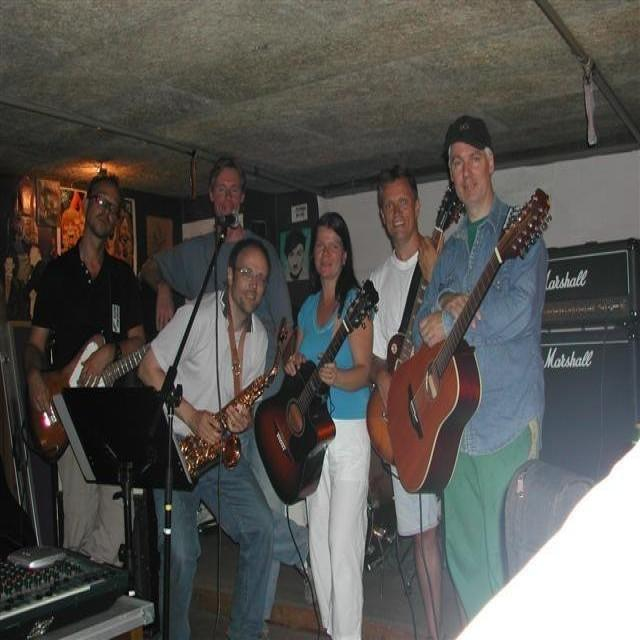guitar: (394, 183, 554, 495), (255, 277, 382, 507), (367, 180, 468, 469), (22, 331, 159, 460)
saxophone: (168, 311, 297, 488)
